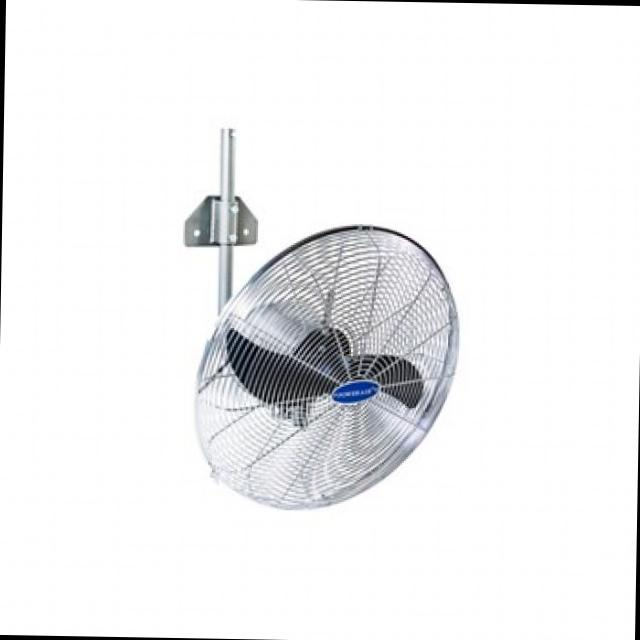fan: (152, 98, 476, 552)
